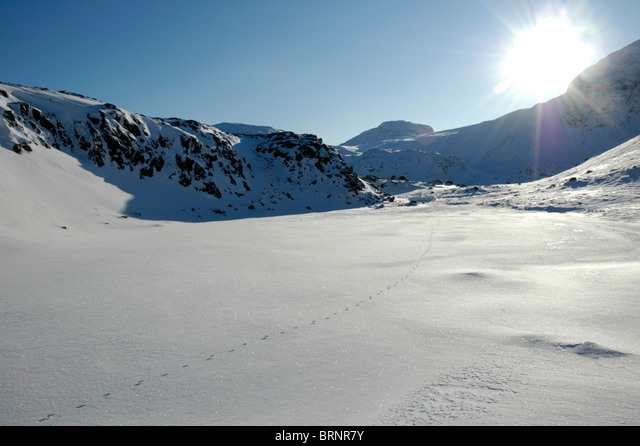fox: (73, 402, 91, 410), (159, 373, 168, 378), (102, 392, 109, 398)
